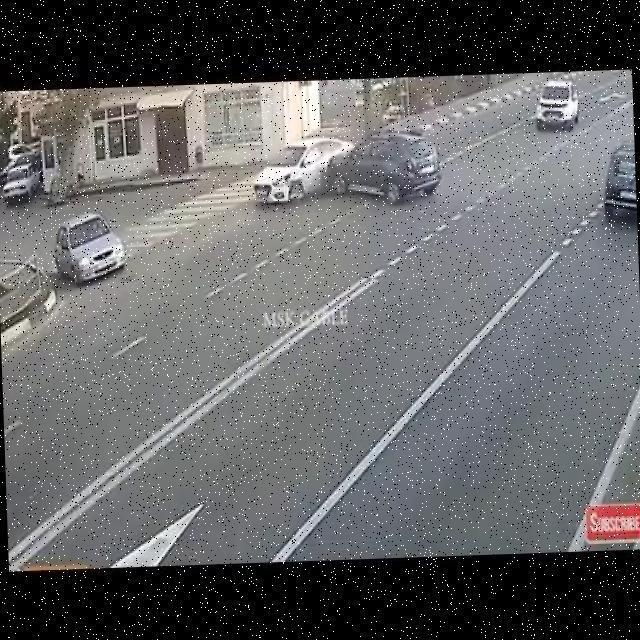accident: (244, 94, 440, 225)
